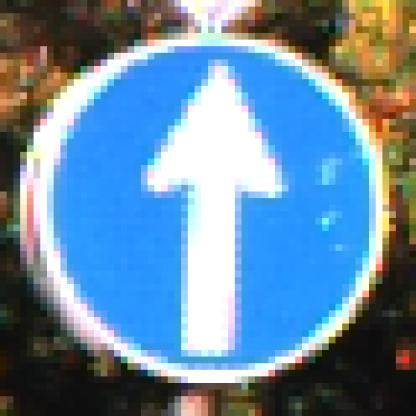AheadOnly: (35, 34, 384, 384)
